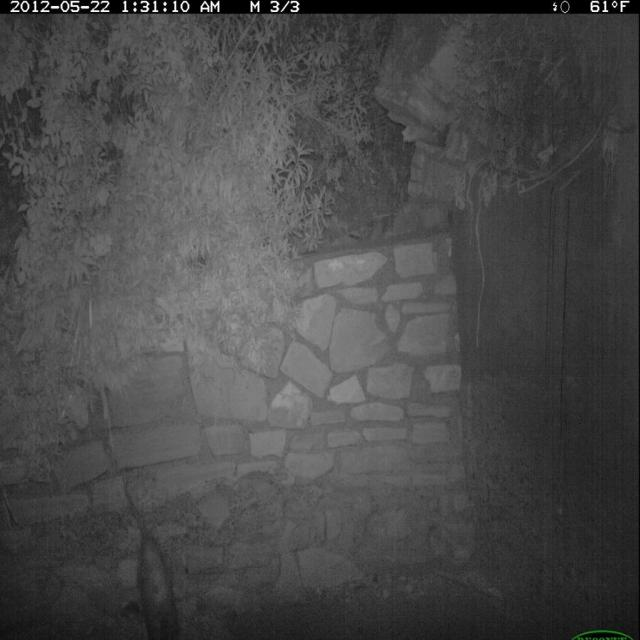opossum: (122, 486, 185, 640)
